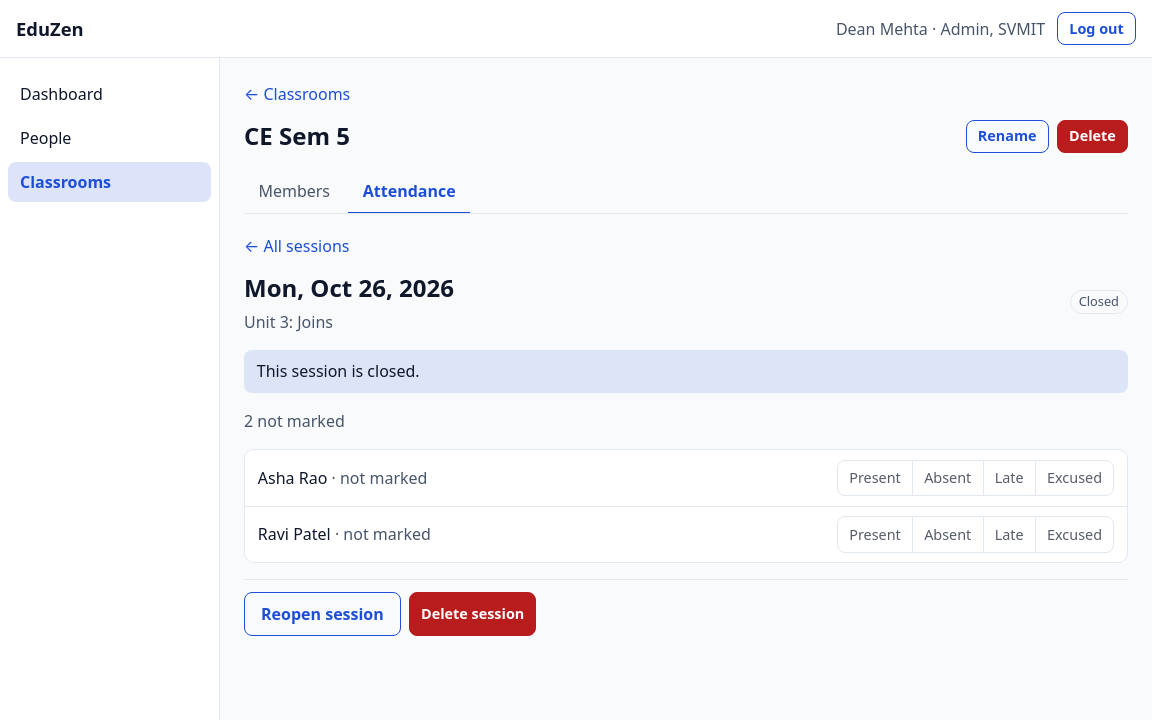
Scenario: marking screen › lets admins reopen a closed session
Click the button "Reopen session" at (322, 614), box [244,592,401,636]
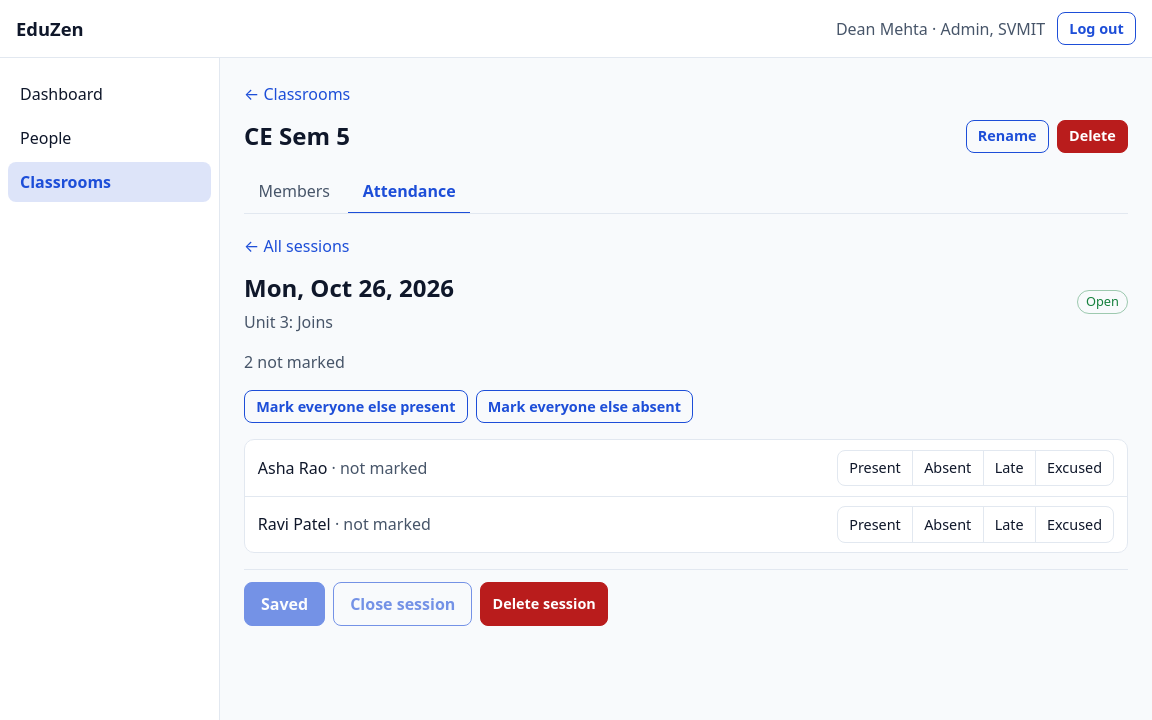
Expected: the button "Saved" is shown, [244,582,325,626]
